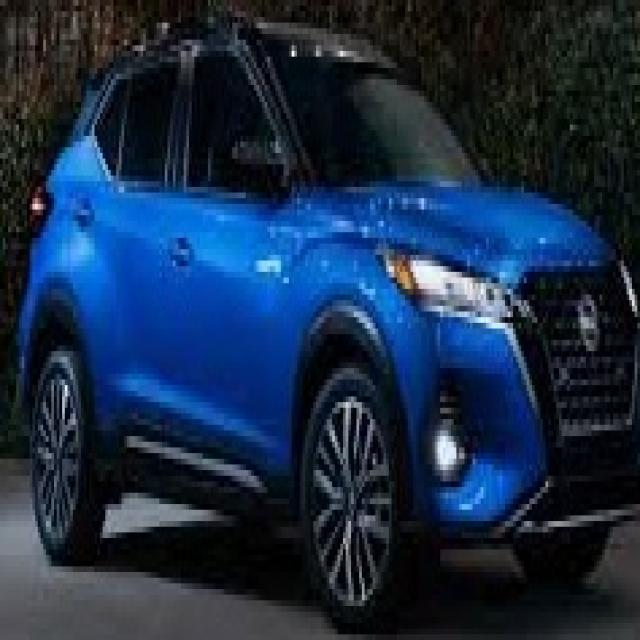blue: (29, 11, 640, 639)
